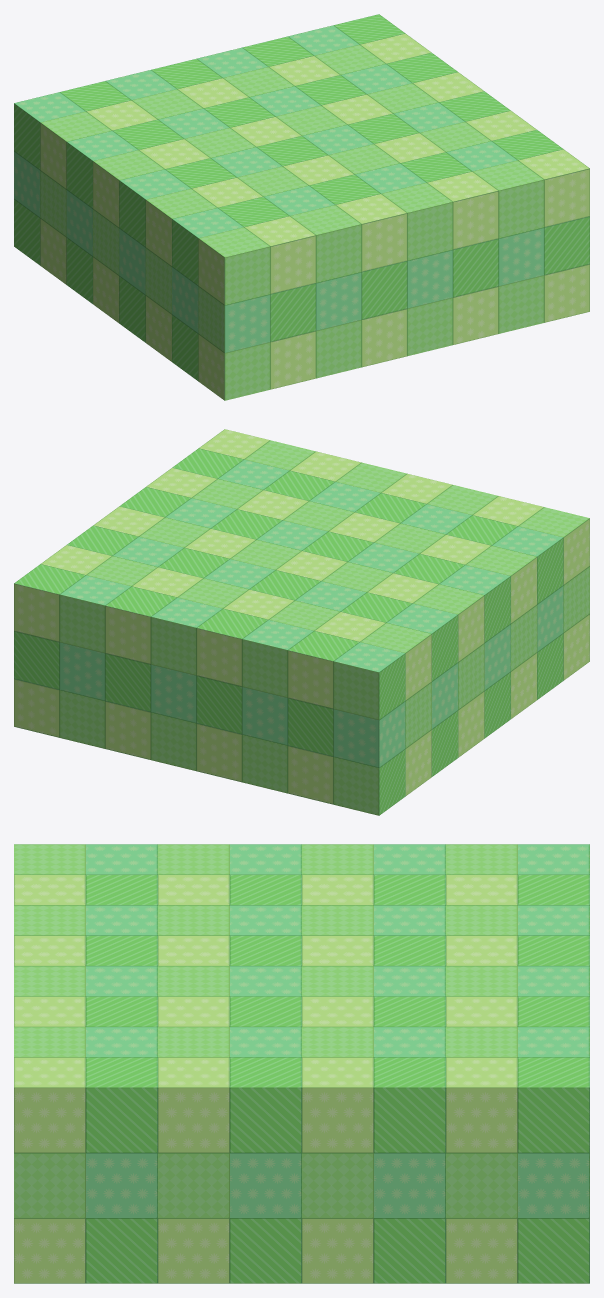
File: platform_001.FBX
The picture shows the model from 3 angles, top to bottom: view 1: azimuth 30°, elevation 25°; view 2: azimuth 150°, elevation 25°; view 3: azimuth 270°, elevation 25°; orthographic projection. The views are drawn at different scales.
Visible parts, largest first — view 1: platform_001; view 2: platform_001; view 3: platform_001.
Part boxes in pixels (x1=…): platform_001: x1=14, y1=14, x2=589, y2=400; platform_001: x1=14, y1=429, x2=589, y2=815; platform_001: x1=14, y1=844, x2=589, y2=1283.
Bounding box in the file's own units: 800 × 300 × 800.
